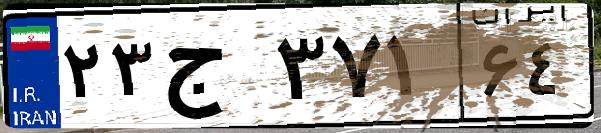1: (385, 28, 445, 110)
2: (57, 26, 110, 100)
3: (270, 28, 330, 110), (110, 28, 158, 98)
4: (525, 38, 570, 115)
6: (475, 38, 525, 113)
7: (330, 28, 385, 110)
ج: (158, 20, 270, 120)
